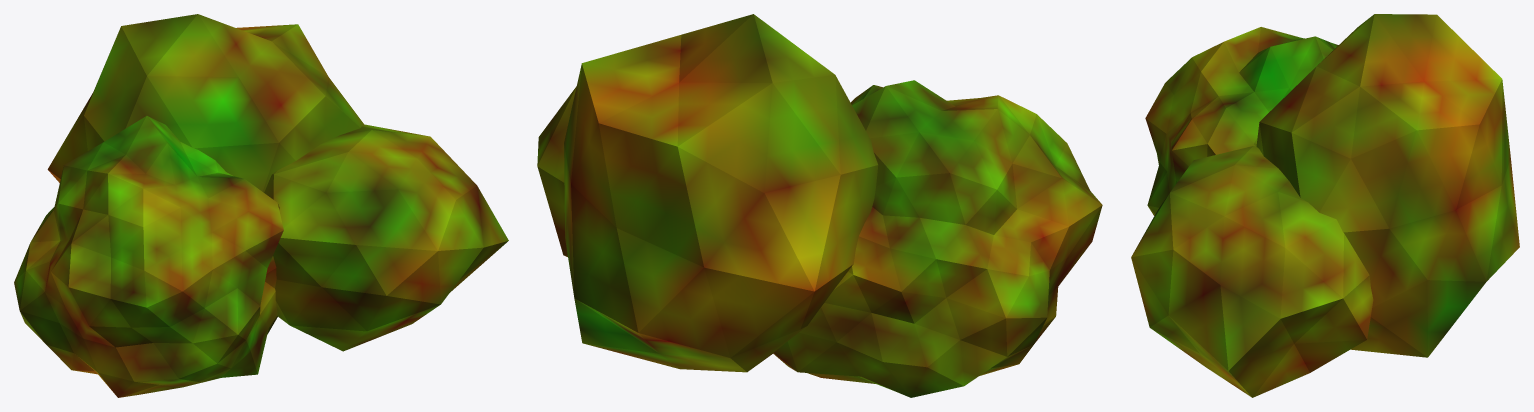
File: 中型金矿_03_三瓣.fbx
The picture shows the model from 3 angles, left to right: view 1: azimuth 30°, elevation 25°; view 2: azimuth 150°, elevation 25°; view 3: azimuth 270°, elevation 25°; orthographic projection. The views are drawn at different scales.
Visible parts, largest first — view 1: GoldOre_Medium_03; view 2: GoldOre_Medium_03; view 3: GoldOre_Medium_03.
Boxes of the visible parts, <box> form: GoldOre_Medium_03: <box>14,14,508,397</box>; GoldOre_Medium_03: <box>537,14,1102,397</box>; GoldOre_Medium_03: <box>1131,14,1519,397</box>.
Bounding box in the file's own units: 0.94 × 0.6 × 0.6893.
